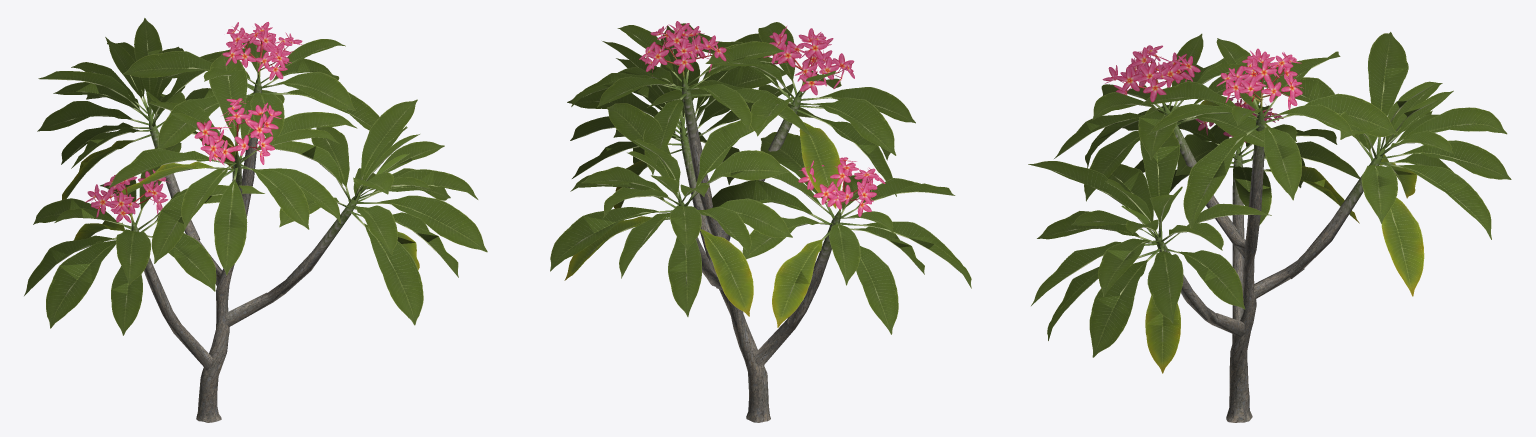
The model's file is cacaloxochitl.obj.
3 views of the same model, side by side, from view 1: azimuth 30°, elevation 25°; view 2: azimuth 150°, elevation 25°; view 3: azimuth 270°, elevation 25° (orthographic). The views are drawn at different scales.
Visible parts, largest first — view 1: cacaloxochitl; view 2: cacaloxochitl; view 3: cacaloxochitl.
Boxes of the visible parts, bbox=[...] form: cacaloxochitl: bbox=[24, 18, 487, 422]; cacaloxochitl: bbox=[550, 21, 971, 422]; cacaloxochitl: bbox=[1028, 32, 1511, 422].
Size of the model in its own units: 4.76 by 4 by 4.61.
